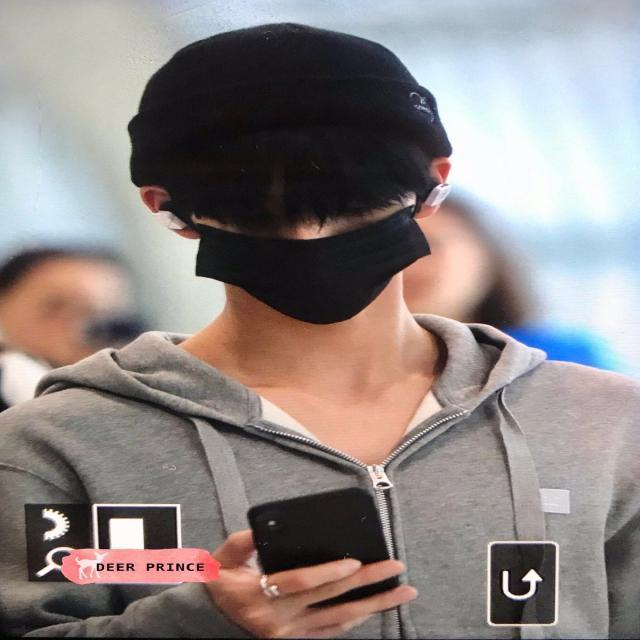earphone: (153, 200, 202, 255), (422, 176, 456, 212)
smart phone: (245, 485, 432, 623)
